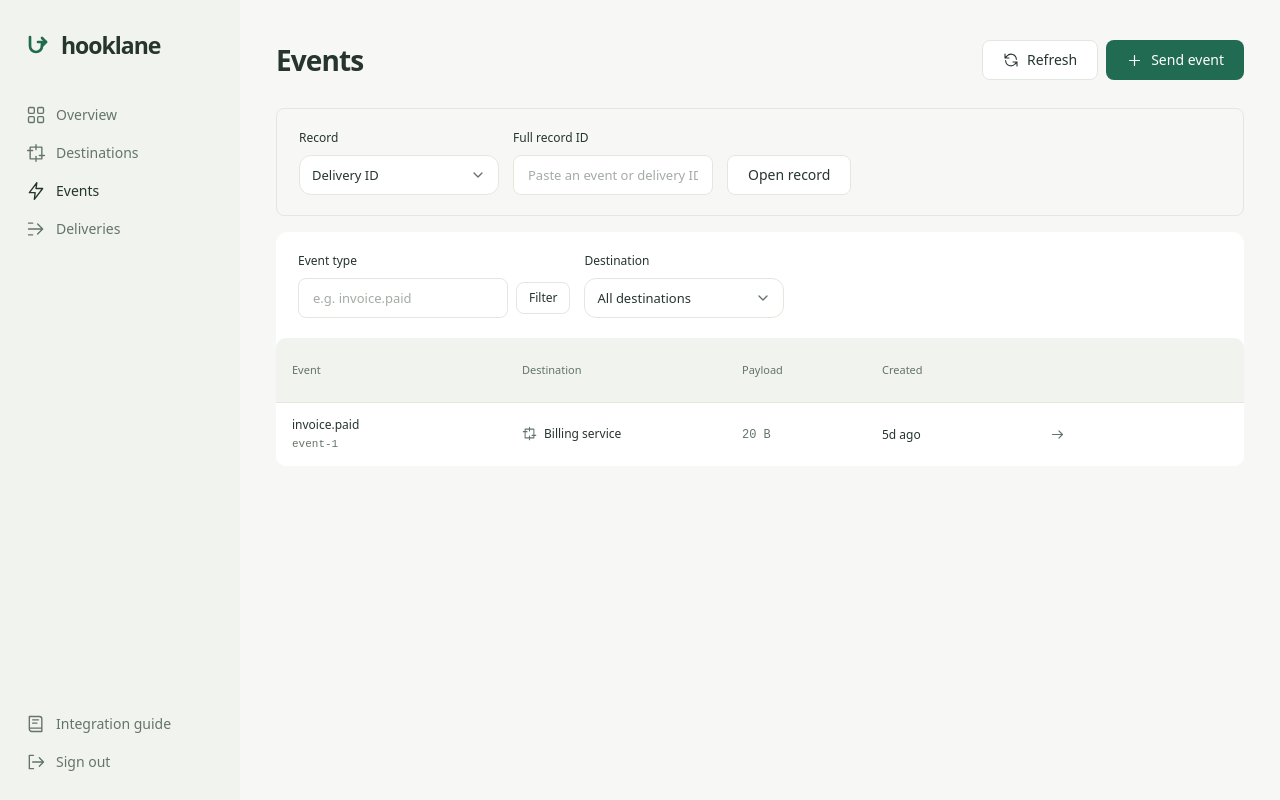
Test: operational flows › submits and clears the event type filter through the beUI controls
The width and height of the screenshot is (1280, 800).
Type "invoice.paid" into the field labelled "Event type" at (403, 298), box x1=299 y1=279 x2=507 y2=317
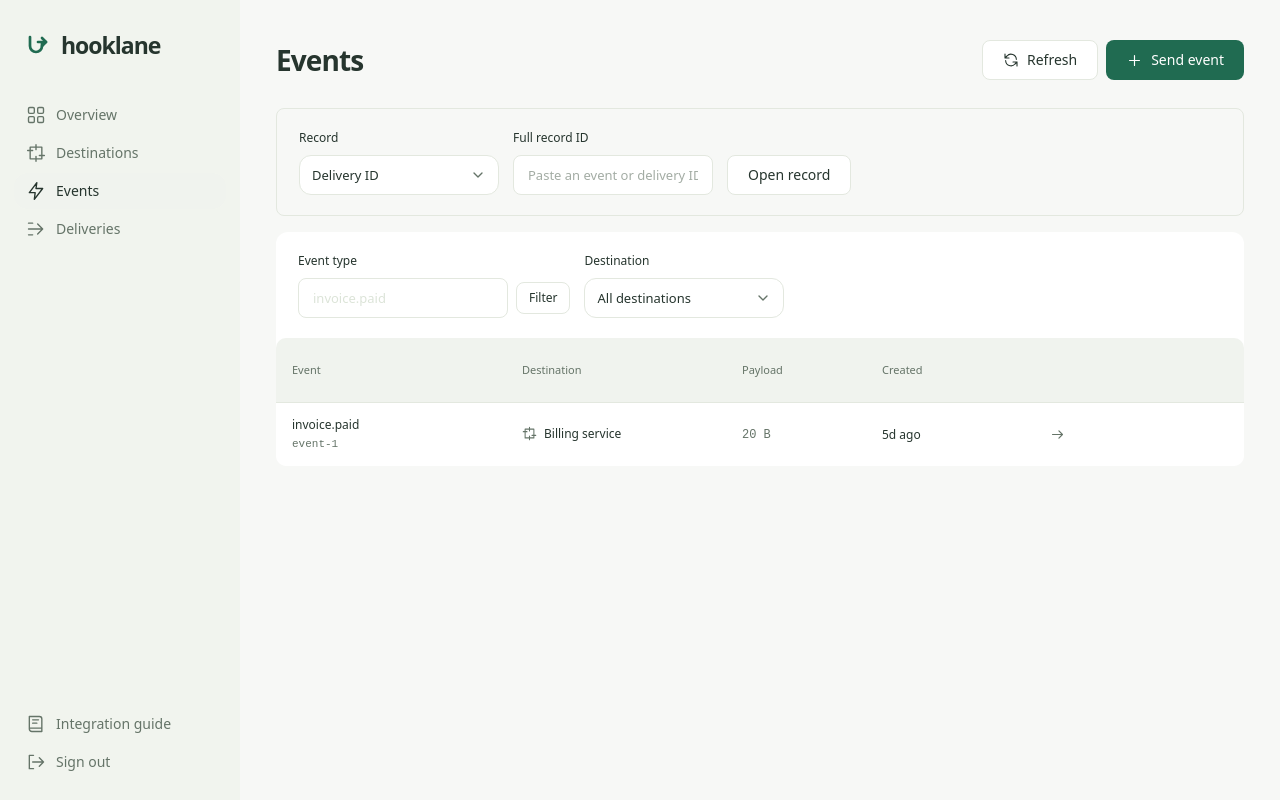
Click the button "Filter" at (543, 298), box x1=516 y1=282 x2=570 y2=314
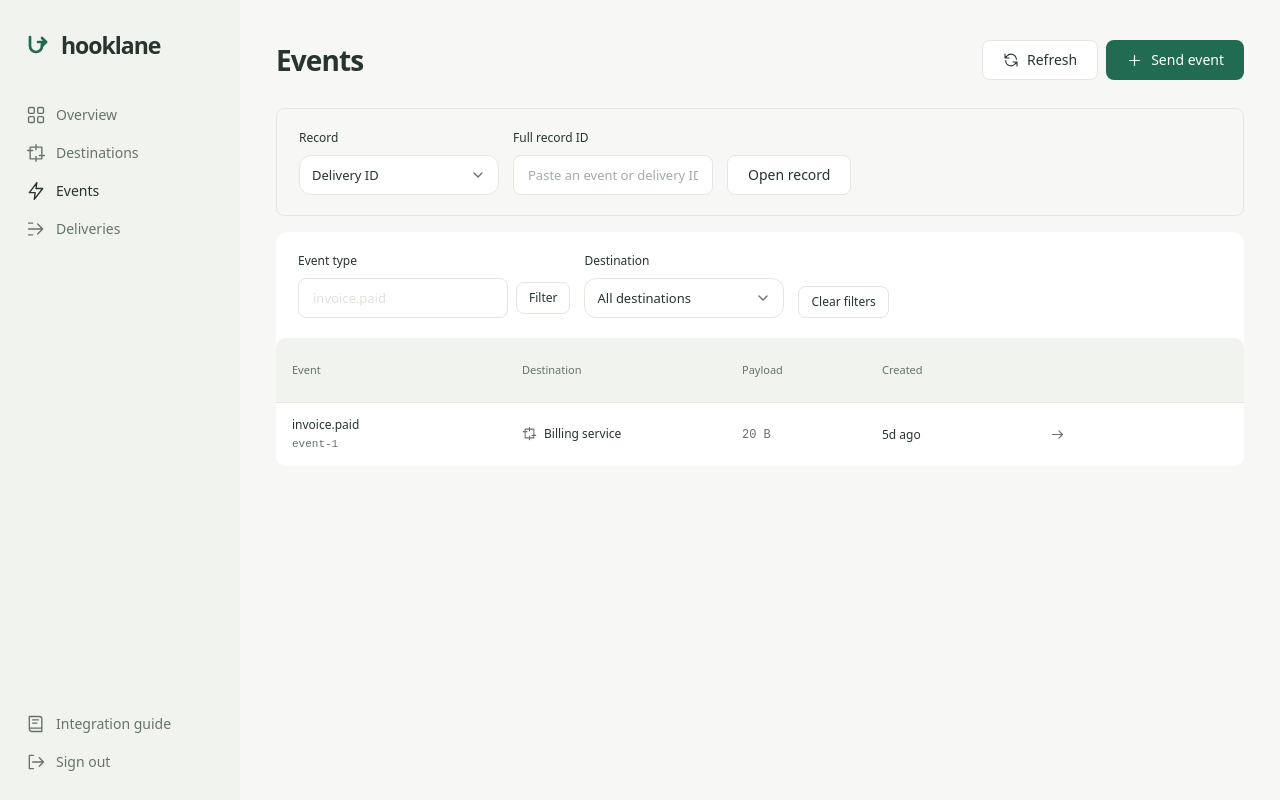
Click the button "Clear filters" at (844, 302), box x1=798 y1=286 x2=889 y2=318
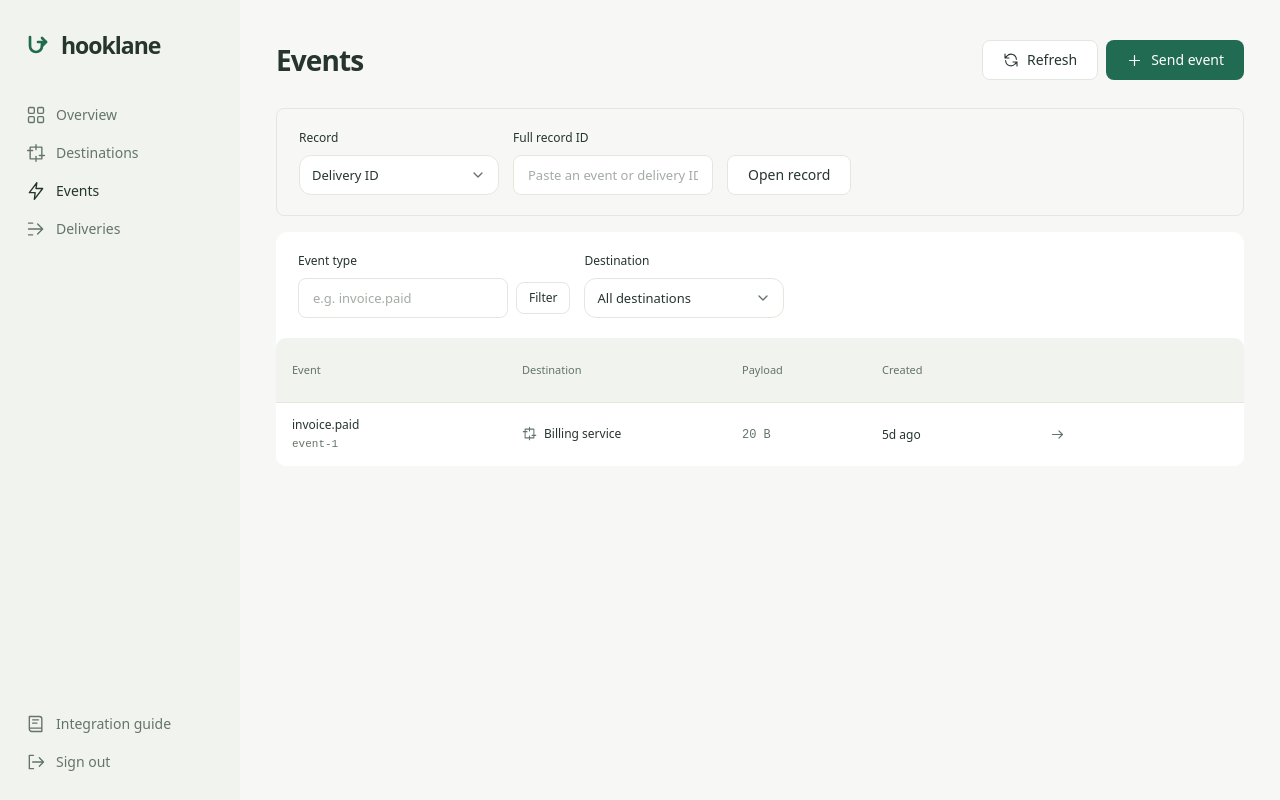
Expected: the field labelled "Event type" is empty, x1=299 y1=279 x2=507 y2=317
Expected: the button "Clear filters" is gone
